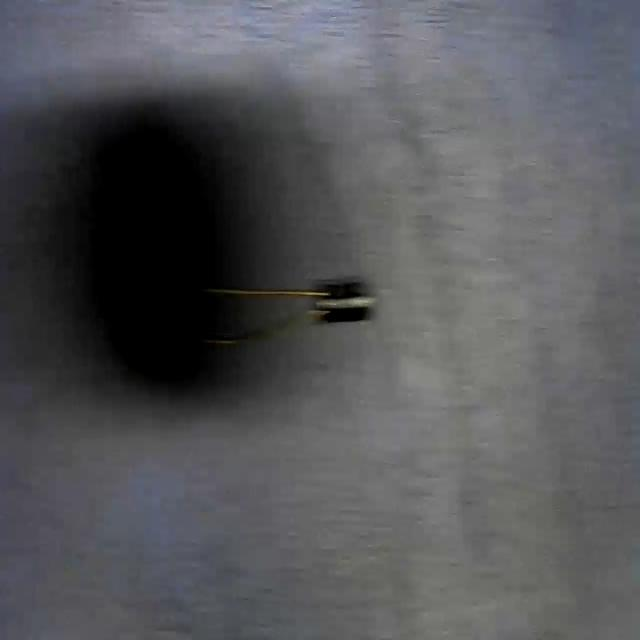capacitor: (200, 280, 375, 349)
